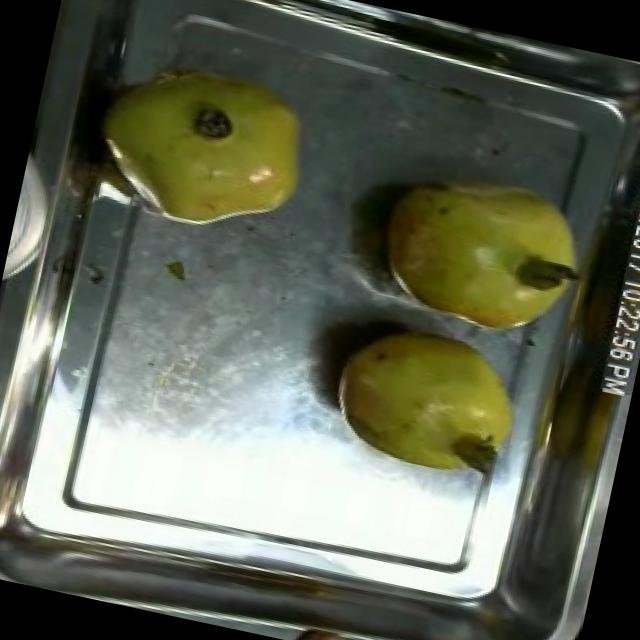fruit: (77, 35, 335, 258), (362, 144, 614, 360), (309, 306, 540, 497)
